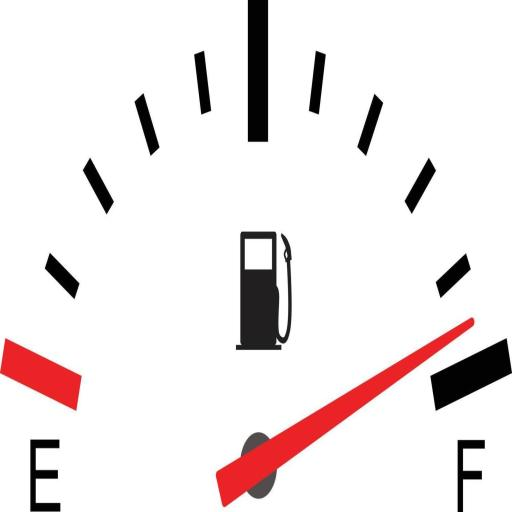empty: (26, 437, 62, 512)
fuel_icon: (236, 228, 292, 352)
full: (455, 434, 486, 512)
guage_area: (0, 26, 512, 512)
needle_center: (238, 419, 281, 509)
needle_tip: (436, 313, 479, 348)
